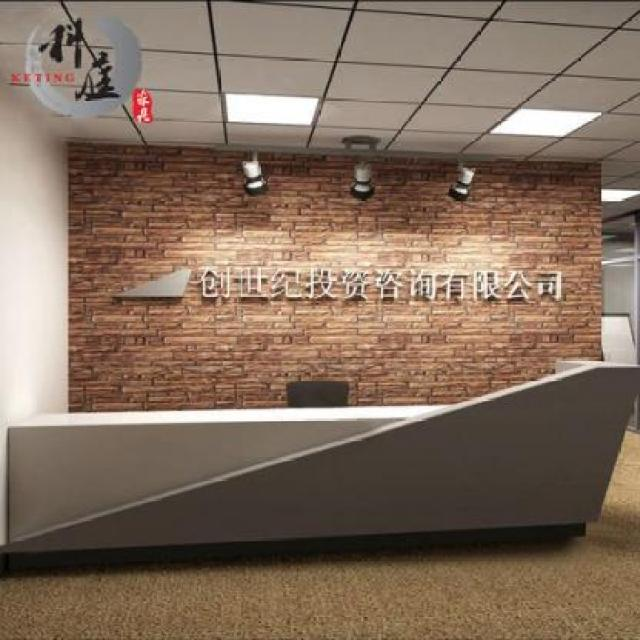frontdesk: (0, 337, 640, 581)
